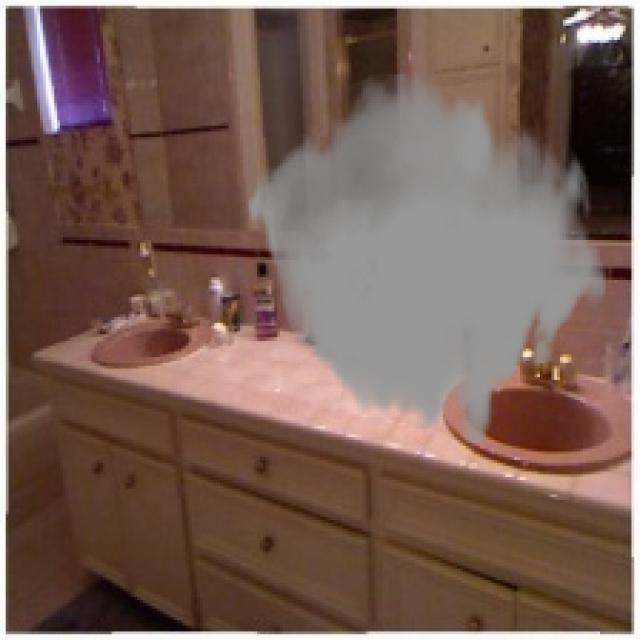smoke: (246, 74, 608, 443)
